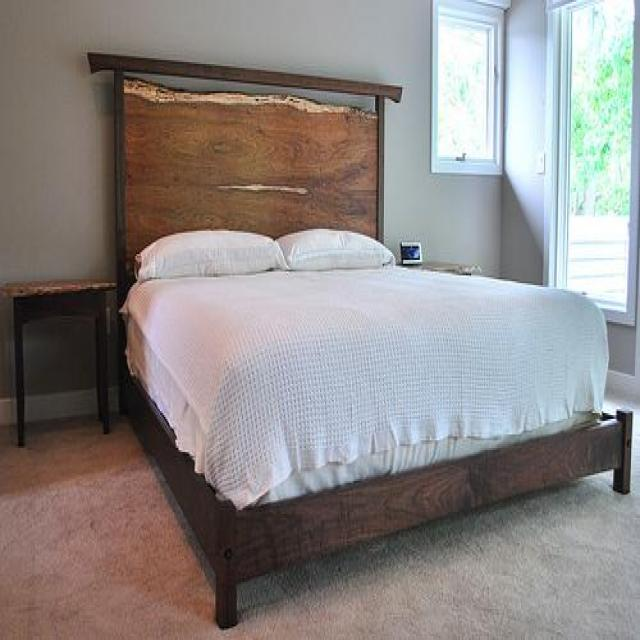bed: (86, 49, 632, 628)
